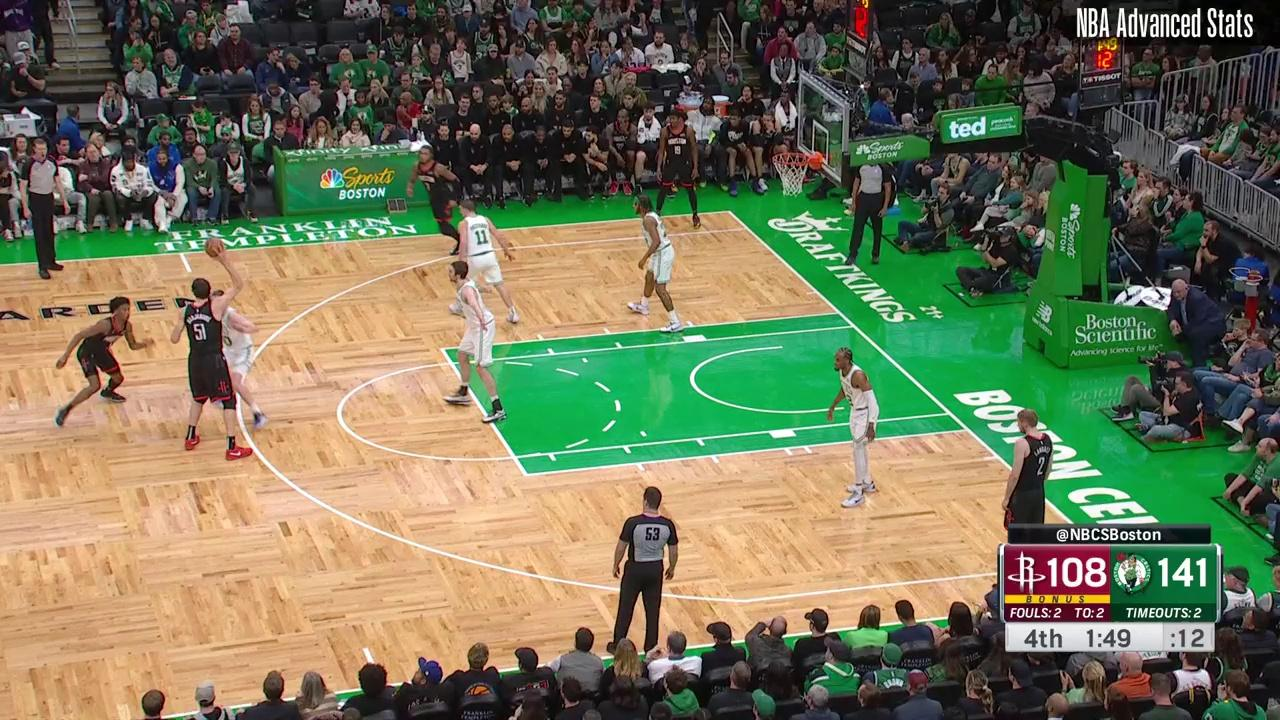3_sx: (742, 224, 752, 233)
b_sx: (725, 207, 734, 215)
free_adx: (521, 470, 531, 478)
free_asx: (438, 347, 445, 354)
free_bdx: (961, 424, 971, 433)
free_bsx: (834, 308, 843, 317)
mid_dx: (361, 644, 368, 652)
mid_sx: (186, 269, 194, 276)
referee: (605, 485, 679, 651), (20, 138, 71, 280), (846, 157, 894, 268)
team: (826, 345, 883, 516), (448, 260, 504, 426), (452, 203, 520, 329), (211, 286, 266, 433), (627, 199, 681, 336)
team1: (172, 250, 249, 461), (53, 295, 148, 426), (996, 406, 1055, 527), (651, 106, 706, 229), (407, 144, 466, 253)
timer: (1078, 620, 1139, 655)
